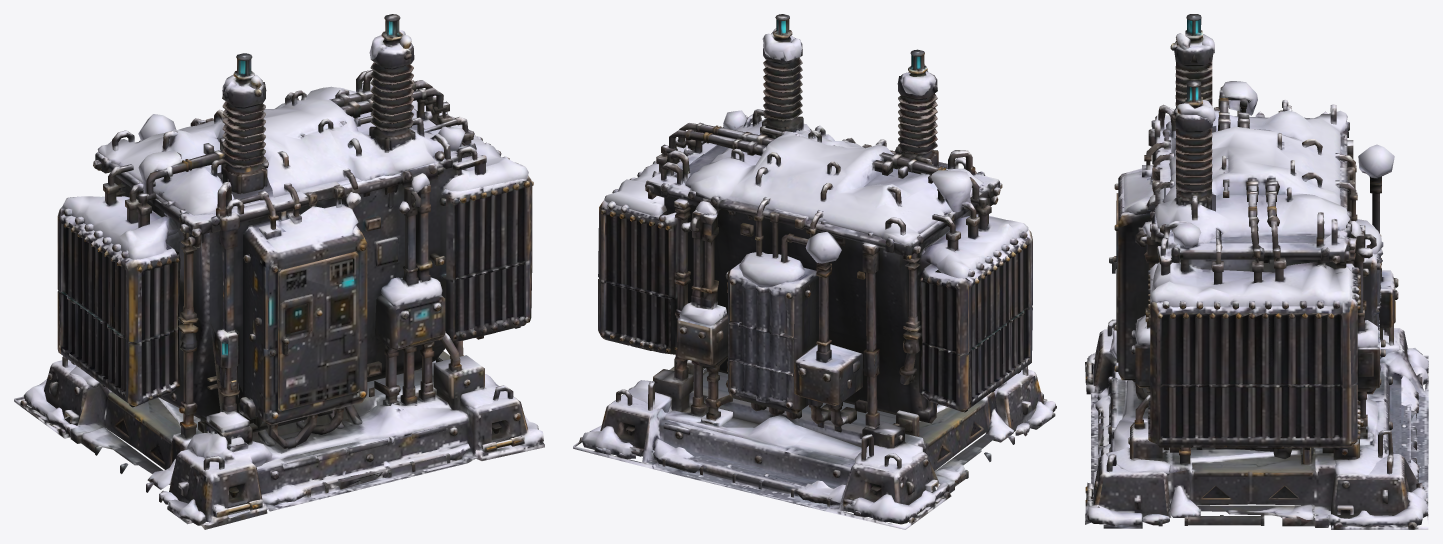
Rendered from portal_05.glb.
3 views of the same model, side by side, from view 1: azimuth 30°, elevation 25°; view 2: azimuth 150°, elevation 25°; view 3: azimuth 270°, elevation 25° (orthographic). The views are drawn at different scales.
Bounding box in the file's own units: 0.9995 × 0.9966 × 0.7832.
Materials: 1 (1 with a texture image).
